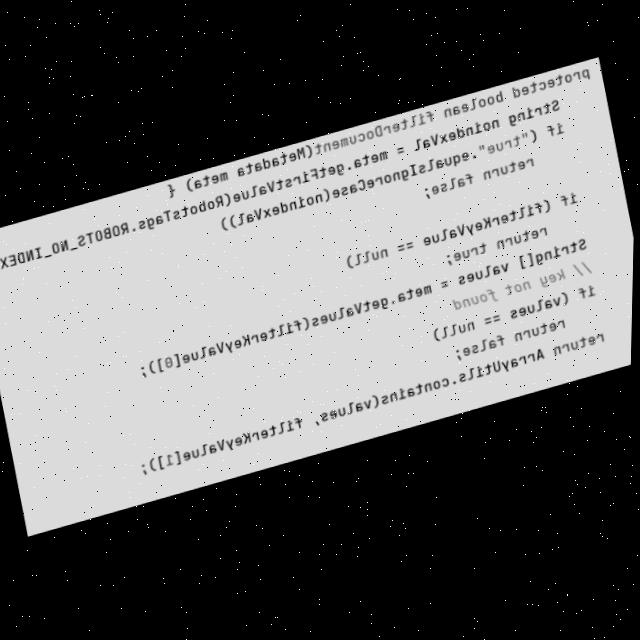code_screen: (0, 58, 634, 534)
